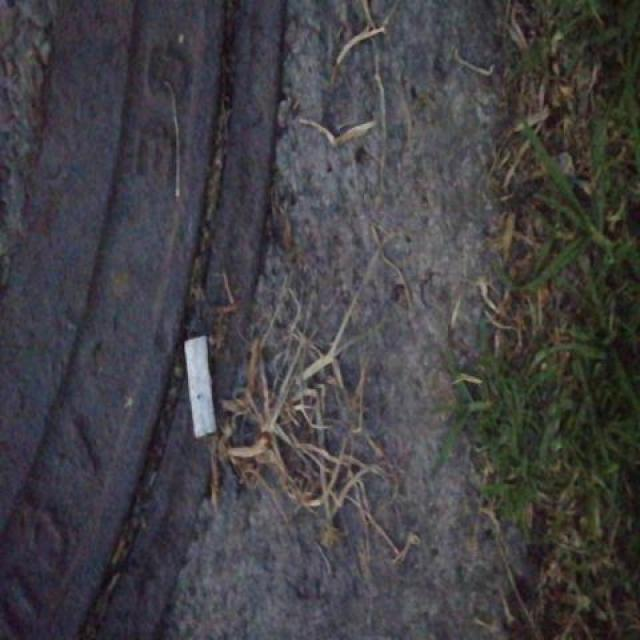non-organic waste: (178, 328, 222, 441)
